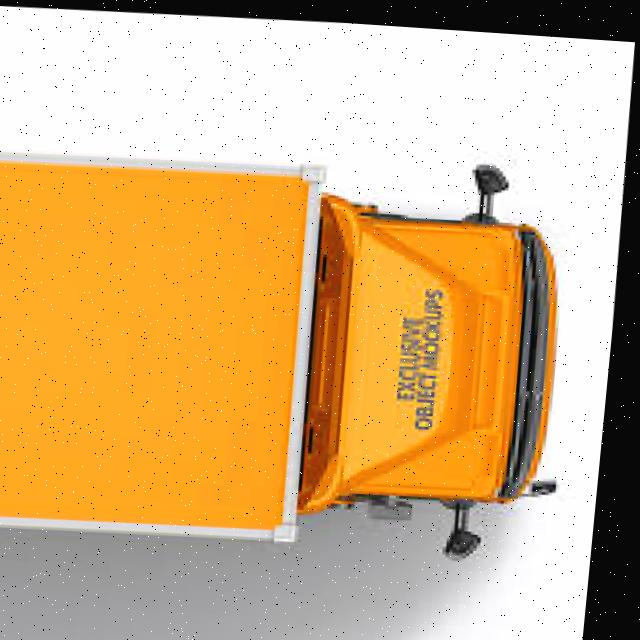truck: (0, 130, 576, 553)
